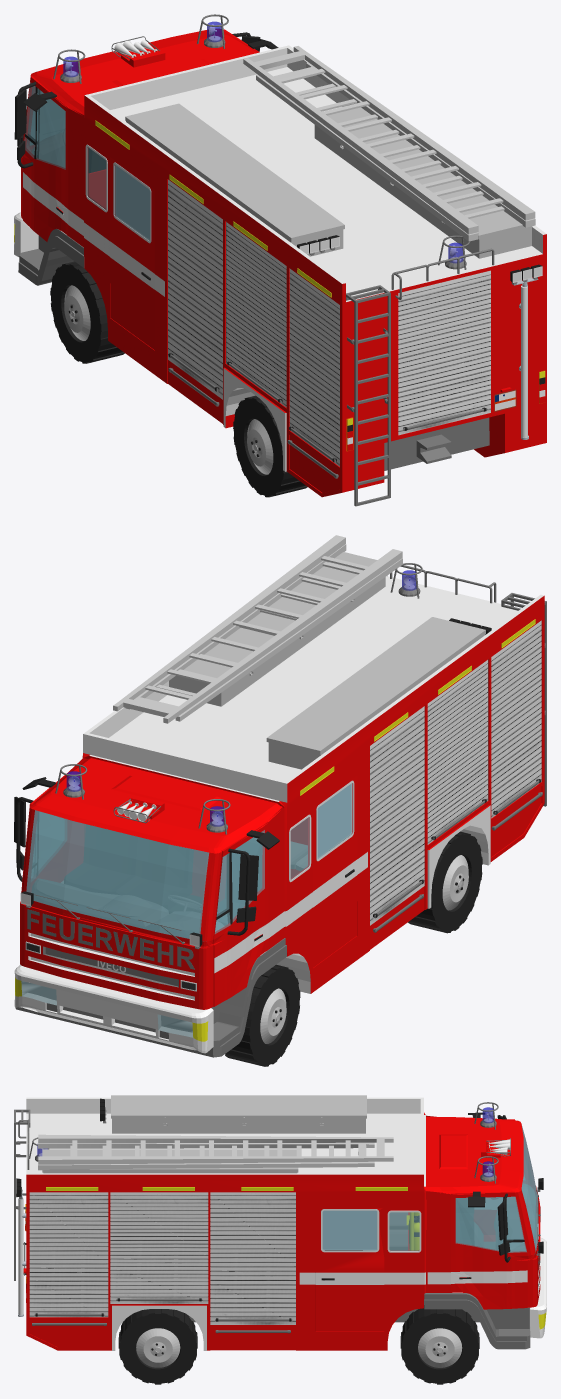
3 views of the same model, one above another, from view 1: azimuth 30°, elevation 25°; view 2: azimuth 150°, elevation 25°; view 3: azimuth 270°, elevation 25° (orthographic). The views are drawn at different scales.
Visible parts, largest first — view 1: Kabine, Komponente#56_002, FFC_GRDoorNeu, Ladder, FFC_G1Door, FFC_G3Door, FFC_G5Door, FFC_CrewDoorLeft, CabinDoorLeft, WheelFrontLeft, WheelBackLeft, scheibe002 (+7 smaller); view 2: Kabine, Scheiben, Komponente#56_002, Ladder, FFC_G1Door, FFC_G3Door, FFC_G5Door, FFC_CrewDoorLeft, CabinDoorLeft, WheelFrontLeft, WheelBackLeft, scheibe002 (+4 smaller); view 3: Kabine, Komponente#56_002, FFC_G2Door, FFC_G4Door, FFC_G6Door, Ladder, FFC_CrewDoorRight, CabinDoorRight, WheelFrontRight, WheelBackRight, scheibe004, scheibe001 (+6 smaller).
Part boxes in pixels (x1,y1,x2,y2): Kabine: (14, 29, 546, 506); Komponente#56_002: (125, 103, 532, 258); FFC_GRDoorNeu: (398, 270, 490, 435); Ladder: (243, 46, 535, 241); FFC_G1Door: (168, 179, 222, 399); FFC_G3Door: (226, 222, 286, 407); FFC_G5Door: (289, 268, 339, 466); FFC_CrewDoorLeft: (110, 157, 154, 349); CabinDoorLeft: (14, 76, 69, 241); WheelFrontLeft: (50, 261, 124, 363); WheelBackLeft: (233, 395, 307, 497); scheibe002: (24, 82, 65, 169); Kabine: (14, 565, 546, 1057); Scheiben: (21, 810, 309, 1037); Komponente#56_002: (169, 552, 485, 769); Ladder: (113, 535, 402, 723); FFC_G1Door: (370, 706, 424, 925); FFC_G3Door: (427, 660, 487, 844); FFC_G5Door: (491, 620, 541, 818); FFC_CrewDoorLeft: (313, 775, 357, 967); CabinDoorLeft: (212, 821, 279, 1006); WheelFrontLeft: (225, 964, 300, 1066); WheelBackLeft: (408, 831, 482, 933); scheibe002: (215, 830, 264, 933); Kabine: (14, 1097, 546, 1350); Komponente#56_002: (42, 1095, 366, 1173); FFC_G2Door: (210, 1192, 295, 1324); FFC_G4Door: (110, 1192, 208, 1303); FFC_G6Door: (29, 1192, 108, 1317); Ladder: (38, 1134, 393, 1170); FFC_CrewDoorRight: (315, 1207, 384, 1331); CabinDoorRight: (451, 1191, 528, 1309); WheelFrontRight: (400, 1305, 479, 1384); WheelBackRight: (118, 1309, 197, 1384); scheibe004: (455, 1196, 526, 1252); scheibe001: (322, 1210, 377, 1250).
Size of the model in its own units: 321 by 360 by 777.
